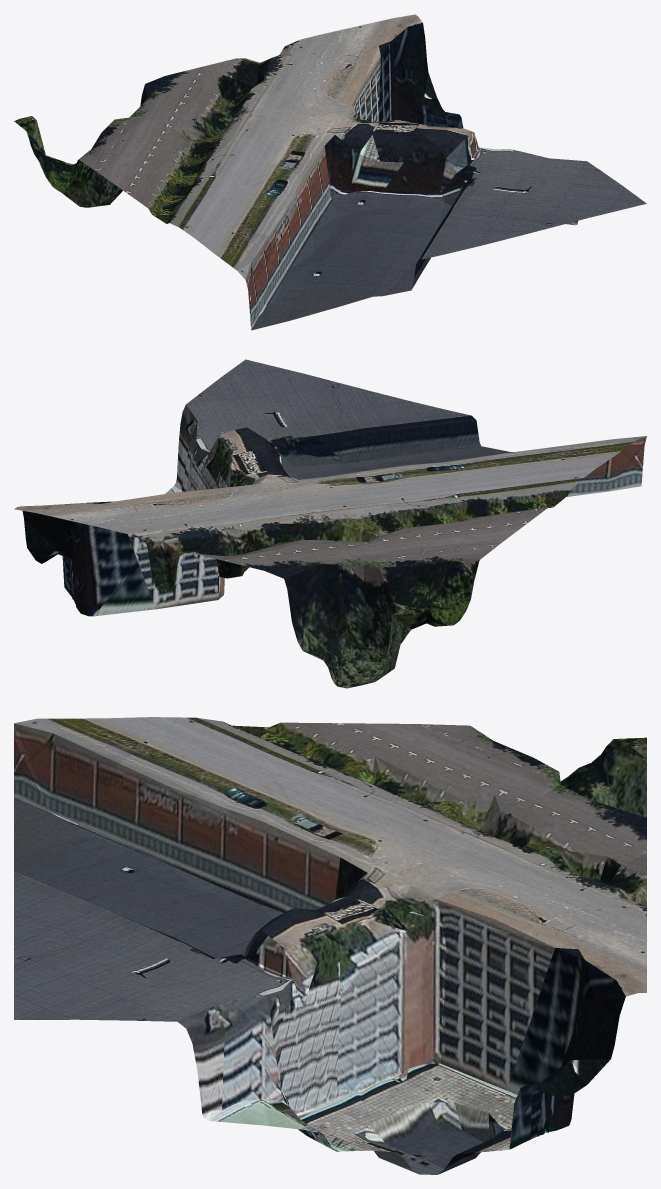
The model's file is map_15_8183_13787.dae.
3 renders of one model, top to bottom at view 1: azimuth 30°, elevation 25°; view 2: azimuth 150°, elevation 25°; view 3: azimuth 270°, elevation 25°, orthographic. The views are drawn at different scales.
Visible parts, largest first — view 1: Ter0; view 2: Ter0; view 3: Ter0.
Part boxes in pixels (x1,y1,x2,y2): Ter0: [14, 14, 646, 330]; Ter0: [14, 359, 646, 688]; Ter0: [14, 717, 646, 1174].
Bounding box in the file's own units: 63.87 × 63.88 × 21.6.
3 materials, 3 textured.
